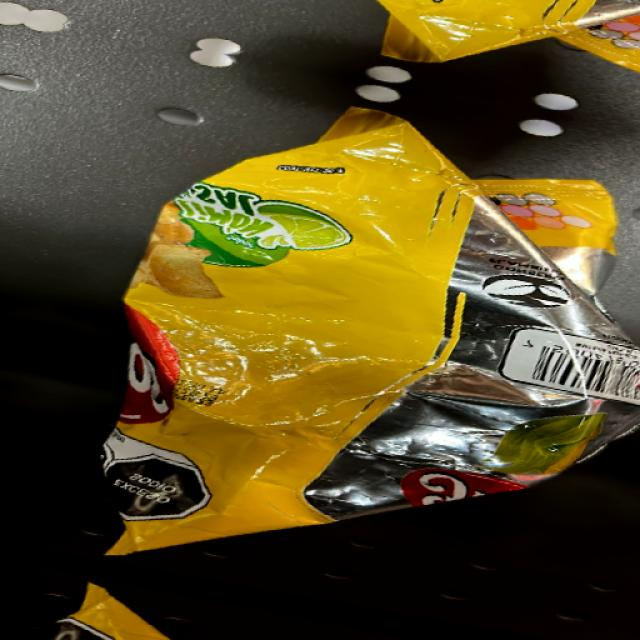fritosLimon: (113, 179, 419, 530)
